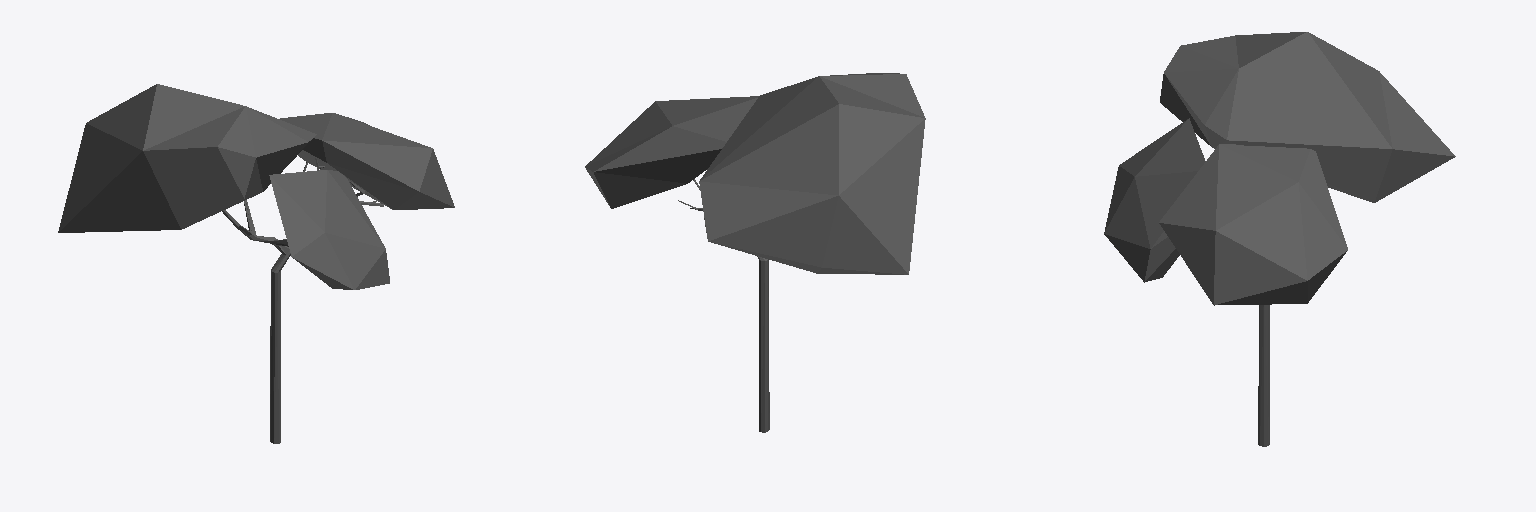
File: treeFloral.obj
3 views of the same model, side by side, from view 1: azimuth 30°, elevation 25°; view 2: azimuth 150°, elevation 25°; view 3: azimuth 270°, elevation 25° (orthographic).
Visible parts, largest first — view 1: rock1, rock2, rock3, floralTree; view 2: rock1, rock3, floralTree; view 3: rock1, rock3, rock2, floralTree.
Boxes of the visible parts, box(x1,y1,x2,y2) form: rock1: box(58, 84, 316, 232); rock2: box(269, 170, 389, 289); rock3: box(280, 113, 454, 209); floralTree: box(222, 158, 383, 443); rock1: box(699, 73, 925, 274); rock3: box(585, 96, 758, 208); floralTree: box(678, 169, 769, 432); rock1: box(1160, 32, 1455, 202); rock3: box(1159, 144, 1347, 305); rock2: box(1104, 118, 1205, 282); floralTree: box(1258, 305, 1269, 446).
Bounding box in the file's own units: 66.06 × 68.09 × 59.37.